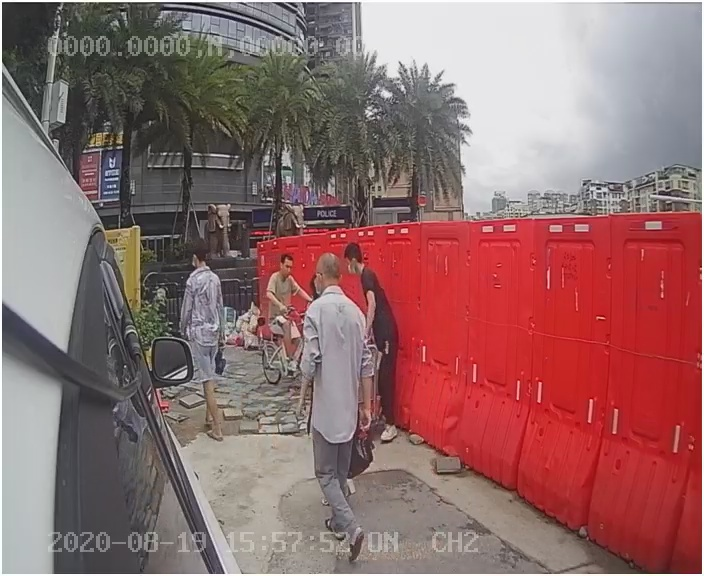person: (293, 257, 387, 499), (177, 247, 249, 446)
